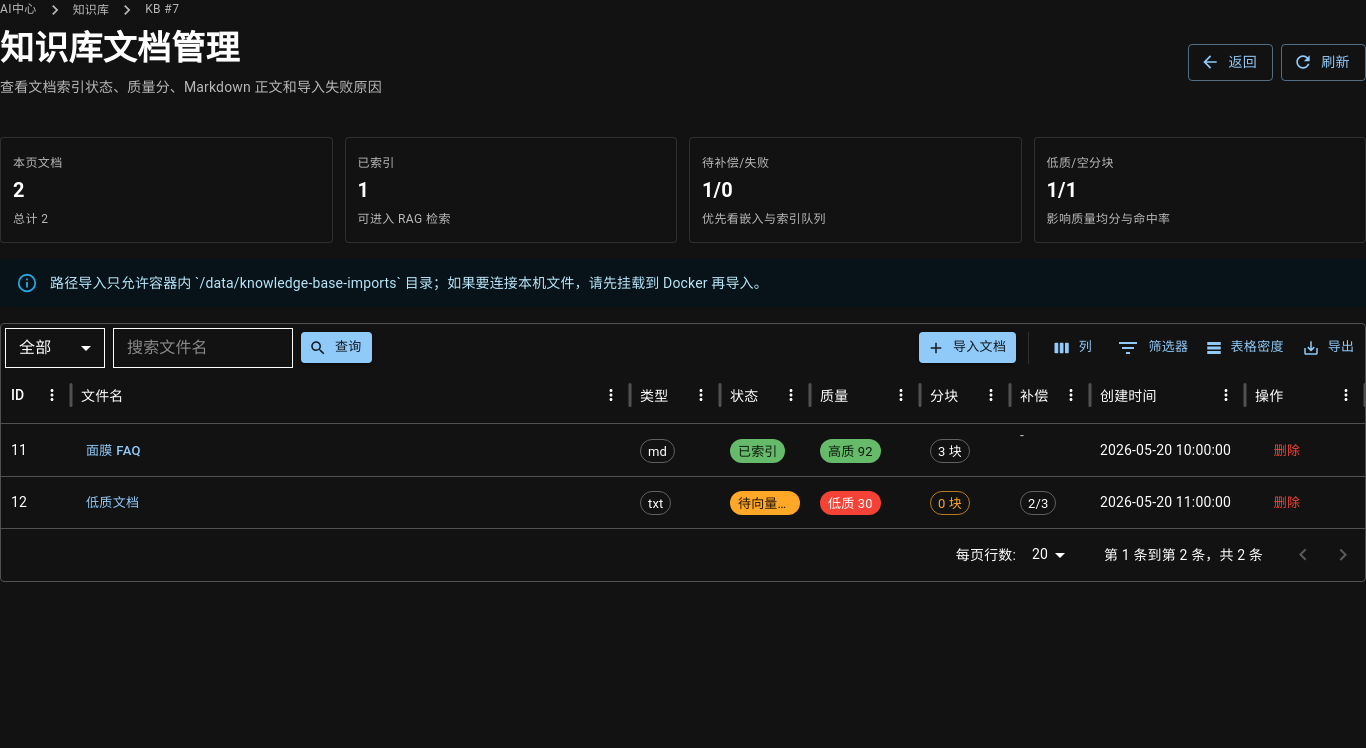
Test: KnowledgeDocumentsPage › uses theme tokens for document search and import actions in dark mode
Click the button "低质文档" at (113, 503), box [81, 488, 145, 519]
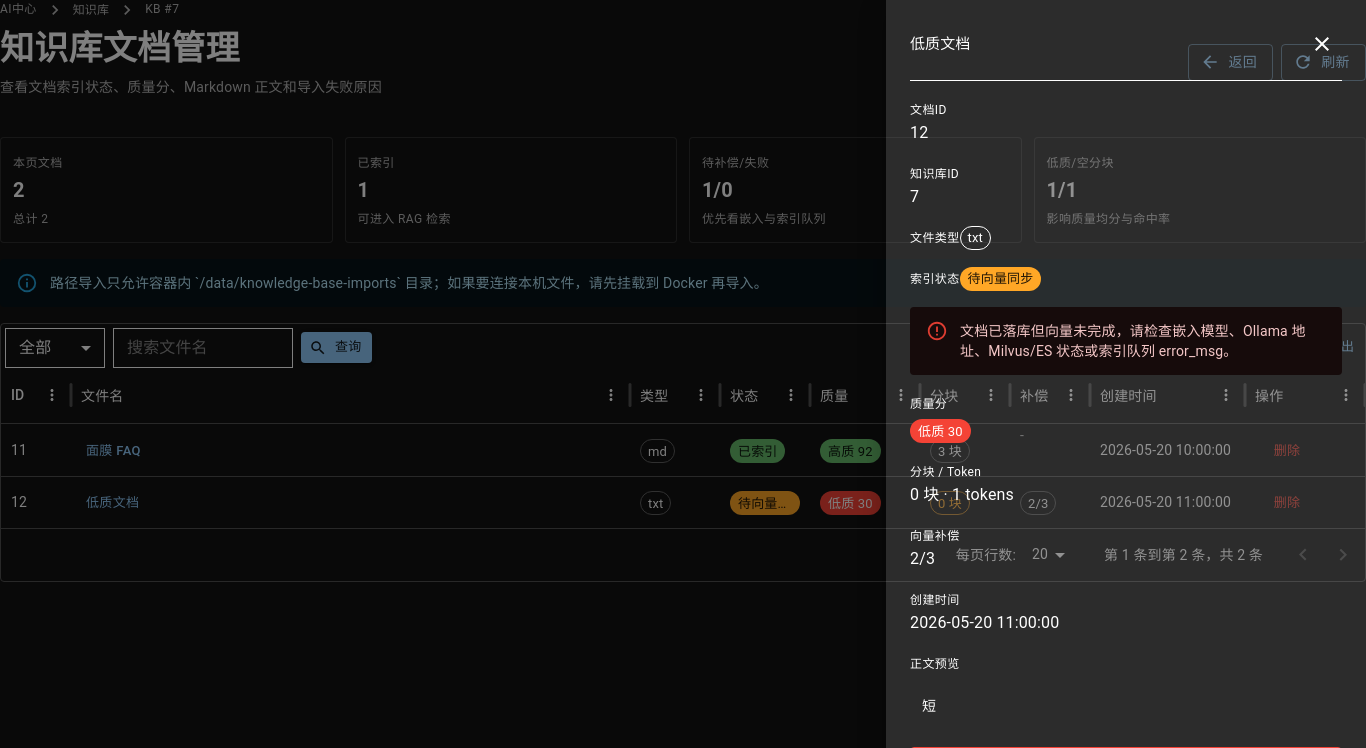
expect the text "文档已落库但向量未完成，请检查嵌入模型、Ollama 地址、Milvus/ES 状态或索引队列 error_msg。" is shown: met, box [960, 312, 1326, 368]
